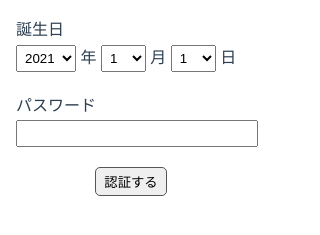
Test: 誕生日に「2021年1月1日」が選択されており、パスワードが空文字列の場合 › 【画面】パスワードに「12345」と入力してsubmitイベントを発火させると、「認証成功」と表示される
Expected: the dropdown with id "year" shows "2021", [16,45,76,72]
Expected: the dropdown with id "month" shows "1", [101,45,146,72]
Type "12345" into the password field at (137, 134), box [16,120,258,147]
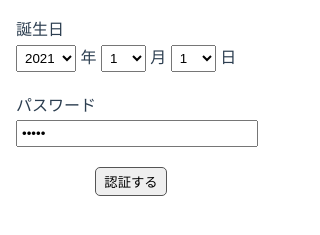
Submit the form, box [16,16,246,196]
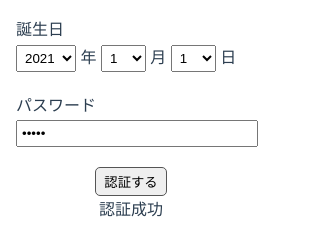
Result: the text with class "result" reads "認証成功" at [99,201,163,218]
